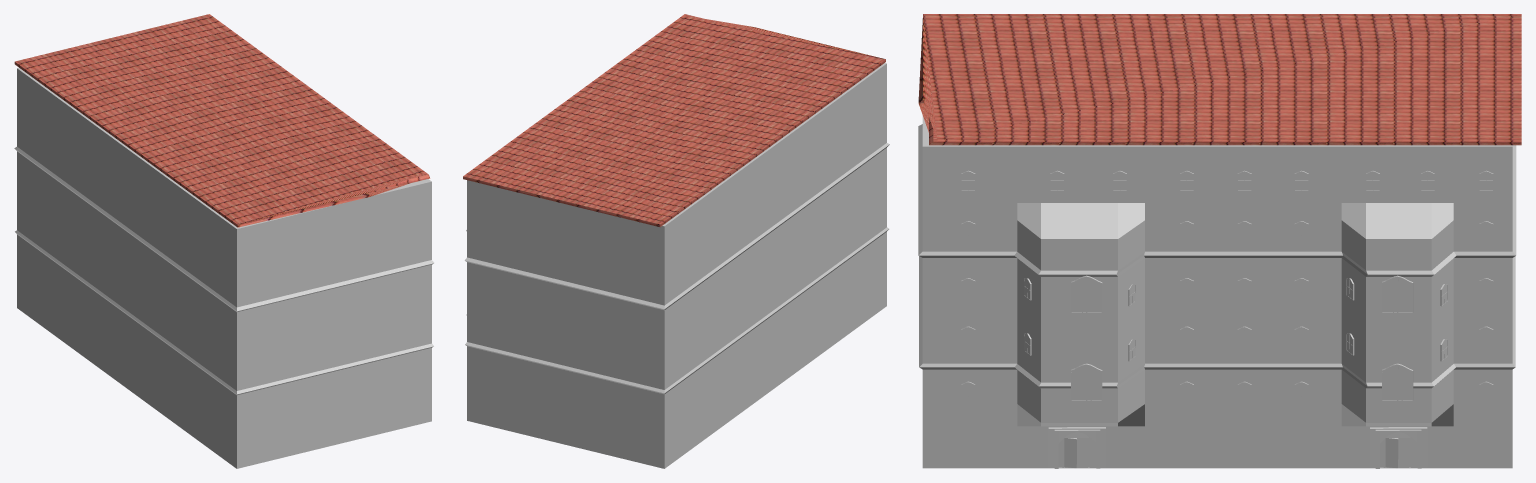
Rendered from bigVallhallaHouse.fbx.
The picture shows the model from 3 angles, left to right: view 1: azimuth 30°, elevation 25°; view 2: azimuth 150°, elevation 25°; view 3: azimuth 270°, elevation 25°; orthographic projection. The views are drawn at different scales.
Visible parts, largest first — view 1: Cube, Roof; view 2: Cube, Roof; view 3: Cube, Roof, Cube.030, Cube.031, Cube.034, Cube.033, Cube.032, Cube.035.
Part boxes in pixels (x1,y1,x2,y2): Cube: (14,68,434,468); Roof: (14,14,430,227); Cube: (464,63,889,468); Roof: (463,14,885,226); Cube: (918,116,1516,468); Roof: (918,14,1521,145); Cube.030: (1048,427,1105,468); Cube.031: (1370,427,1427,468); Cube.034: (1071,275,1102,313); Cube.033: (1382,275,1413,313); Cube.032: (1382,363,1413,400); Cube.035: (1071,363,1102,400).
Bounding box in the file's own units: 39 × 39.82 × 66.52.
